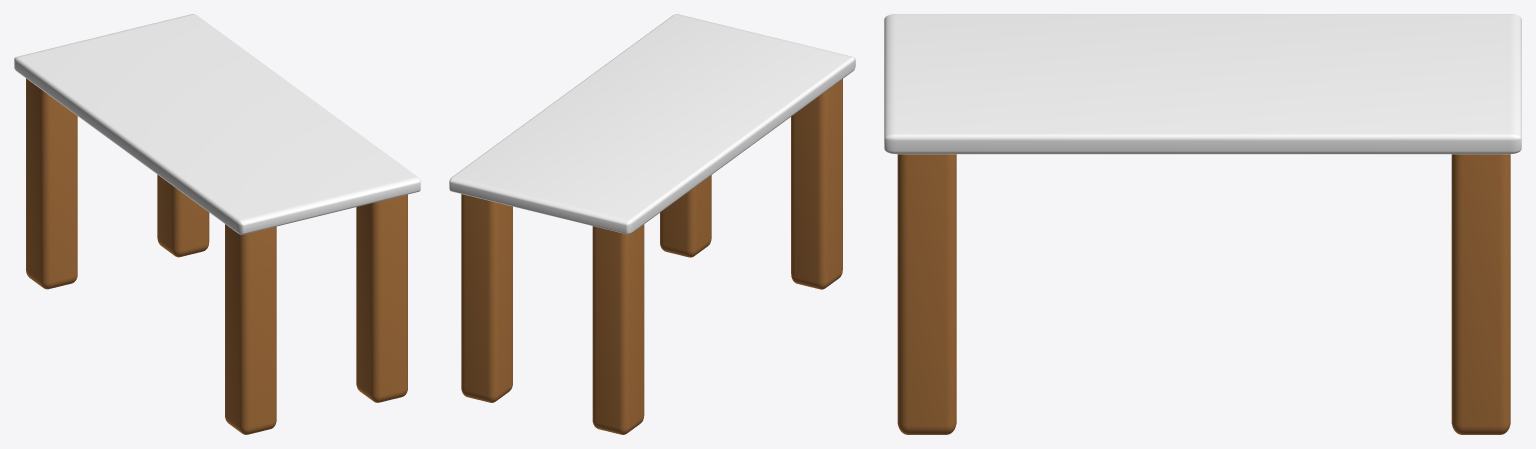
Rendered from simple_rect_table_A.obj.
3 renders of one model, left to right at view 1: azimuth 30°, elevation 25°; view 2: azimuth 150°, elevation 25°; view 3: azimuth 270°, elevation 25°, orthographic. The views are drawn at different scales.
Parts seen in each view (by area): view 1: simple_rect_table_A; view 2: simple_rect_table_A; view 3: simple_rect_table_A.
Boxes of the visible parts, left/top/right/bottom form: simple_rect_table_A: left=14, top=14, right=420, bottom=434; simple_rect_table_A: left=449, top=14, right=855, bottom=434; simple_rect_table_A: left=884, top=14, right=1521, bottom=434.
Bounding box in the file's own units: 0.7488 × 0.8674 × 1.63.
